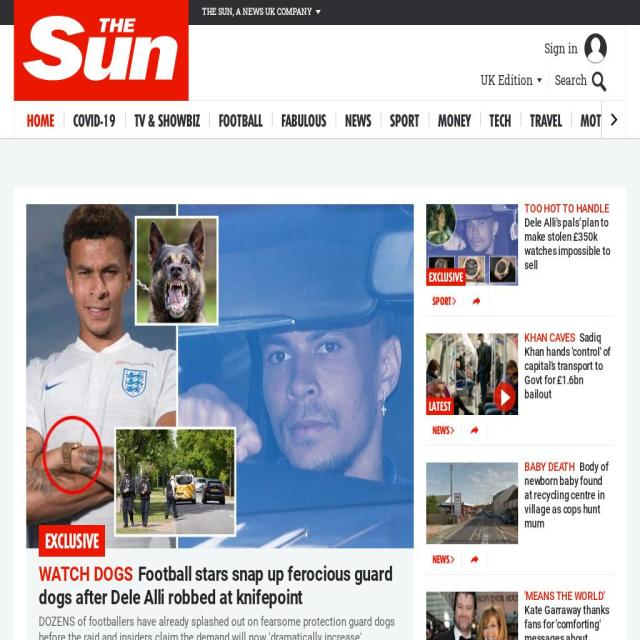button: (26, 204, 414, 548), (39, 562, 401, 640), (20, 0, 195, 102), (426, 204, 518, 286), (426, 333, 518, 415), (426, 463, 518, 544), (524, 331, 612, 402), (524, 460, 612, 531), (524, 202, 612, 272), (426, 591, 518, 640), (524, 589, 612, 640), (134, 100, 200, 138), (544, 34, 607, 64), (218, 100, 262, 138), (282, 100, 326, 138), (73, 100, 116, 138), (580, 100, 620, 138), (438, 100, 471, 138), (530, 100, 562, 138), (390, 100, 419, 138), (27, 100, 54, 138), (480, 72, 542, 88), (345, 100, 371, 138), (548, 72, 607, 88), (489, 100, 512, 138), (432, 294, 452, 308), (432, 423, 450, 437), (432, 552, 450, 566), (638, 100, 640, 138)
heading: (524, 204, 609, 317), (39, 614, 401, 640), (524, 333, 575, 446), (524, 463, 575, 575), (524, 591, 604, 640), (39, 562, 133, 586)
image: (26, 204, 414, 548), (20, 25, 200, 100), (426, 204, 518, 286), (426, 333, 518, 415), (426, 463, 518, 544), (426, 591, 518, 640), (584, 34, 607, 64), (591, 72, 607, 92), (612, 113, 618, 126), (472, 297, 480, 305), (471, 426, 478, 434), (471, 555, 478, 563), (452, 297, 457, 305), (450, 427, 454, 434), (450, 556, 454, 563), (536, 78, 542, 82), (316, 10, 320, 14)
link: (39, 563, 392, 609), (524, 331, 610, 401), (524, 460, 608, 530), (524, 216, 610, 272), (524, 603, 610, 640)
text: (0, 0, 640, 139), (39, 525, 105, 557), (202, 5, 312, 17), (480, 72, 533, 88), (426, 268, 466, 286), (494, 382, 516, 412), (544, 39, 578, 57), (554, 72, 587, 88), (426, 397, 454, 415), (432, 296, 452, 310), (432, 425, 450, 439), (432, 554, 450, 568)
